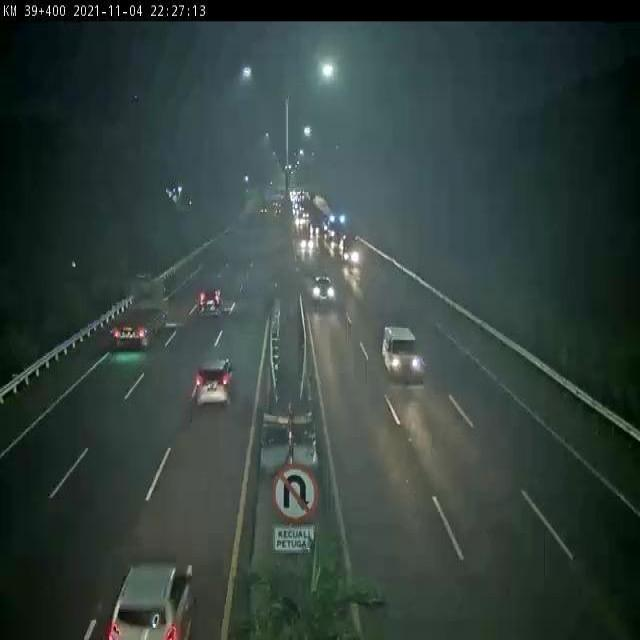car: (380, 322, 424, 382), (192, 356, 235, 407), (195, 286, 226, 318), (312, 275, 336, 304)
truck-m-: (107, 274, 174, 349)
